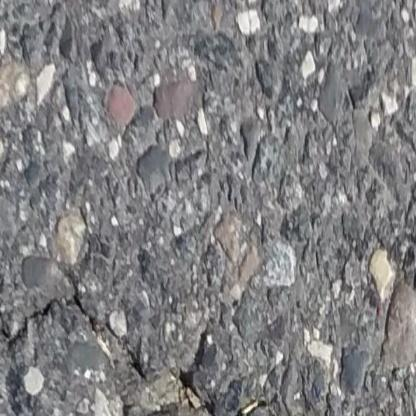Cracks: (177, 329, 416, 416), (0, 267, 150, 384)
